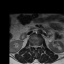CCS_normal: (34, 43, 36, 51)
LFS_stenosis: (38, 44, 40, 49)
LLS_stenosis: (36, 43, 38, 49)
RFS_stenosis: (30, 44, 32, 48)
RLS_stenosis: (32, 44, 34, 49)
